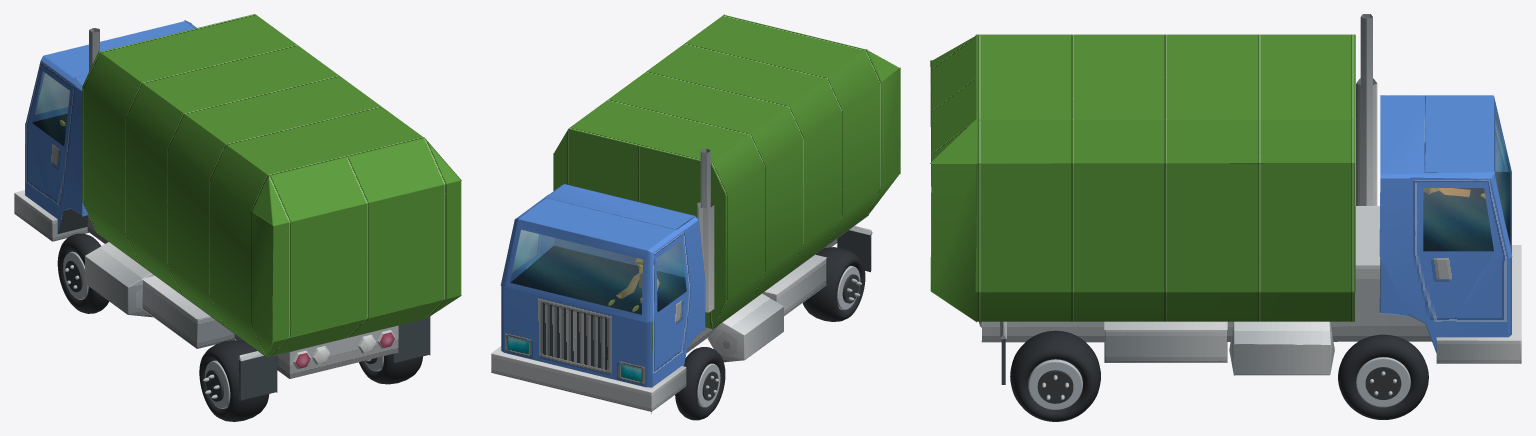
Rendered from car-garbage.glb.
3 renders of one model, left to right at view 1: azimuth 30°, elevation 25°; view 2: azimuth 150°, elevation 25°; view 3: azimuth 270°, elevation 25°, orthographic. The views are drawn at different scales.
Parts seen in each view (by area): view 1: garbageShape.001, Rounded tire.101, windShape.002, Rounded tire.102, Rounded tire.100, garbageShape, Alloy rim.101, Alloy rim.102; view 2: garbageShape.001, windShape.002, garbageShape, Rounded tire.101, Rounded tire.102, Alloy rim.102, Alloy rim.101; view 3: garbageShape.001, windShape.002, garbageShape, Rounded tire.100, Rounded tire.103, Alloy rim.100, Alloy rim.103, Rim recess.201, Rim recess.207.
Part boxes in pixels (x1,y1,x2,y2): garbageShape.001: [14, 14, 461, 400]; Rounded tire.101: [199, 340, 269, 421]; windShape.002: [32, 71, 82, 145]; Rounded tire.102: [57, 233, 108, 313]; Rounded tire.100: [359, 354, 422, 384]; garbageShape: [33, 114, 67, 145]; Alloy rim.101: [205, 360, 230, 408]; Alloy rim.102: [63, 251, 88, 299]; garbageShape.001: [491, 14, 900, 413]; windShape.002: [510, 229, 686, 314]; garbageShape: [511, 246, 686, 314]; Rounded tire.101: [802, 247, 865, 321]; Rounded tire.102: [675, 347, 725, 420]; Alloy rim.102: [697, 363, 720, 407]; Alloy rim.101: [837, 266, 860, 310]; garbageShape.001: [930, 14, 1521, 384]; windShape.002: [1423, 110, 1510, 251]; garbageShape: [1423, 142, 1510, 250]; Rounded tire.100: [1010, 330, 1100, 421]; Rounded tire.103: [1338, 334, 1428, 419]; Alloy rim.100: [1028, 359, 1082, 409]; Alloy rim.103: [1356, 357, 1410, 407]; Rim recess.201: [1037, 370, 1073, 403]; Rim recess.207: [1365, 367, 1401, 399].
Size of the model in its own units: 3.16 by 4.15 by 7.02.
Materials: 6 (3 with a texture image).
